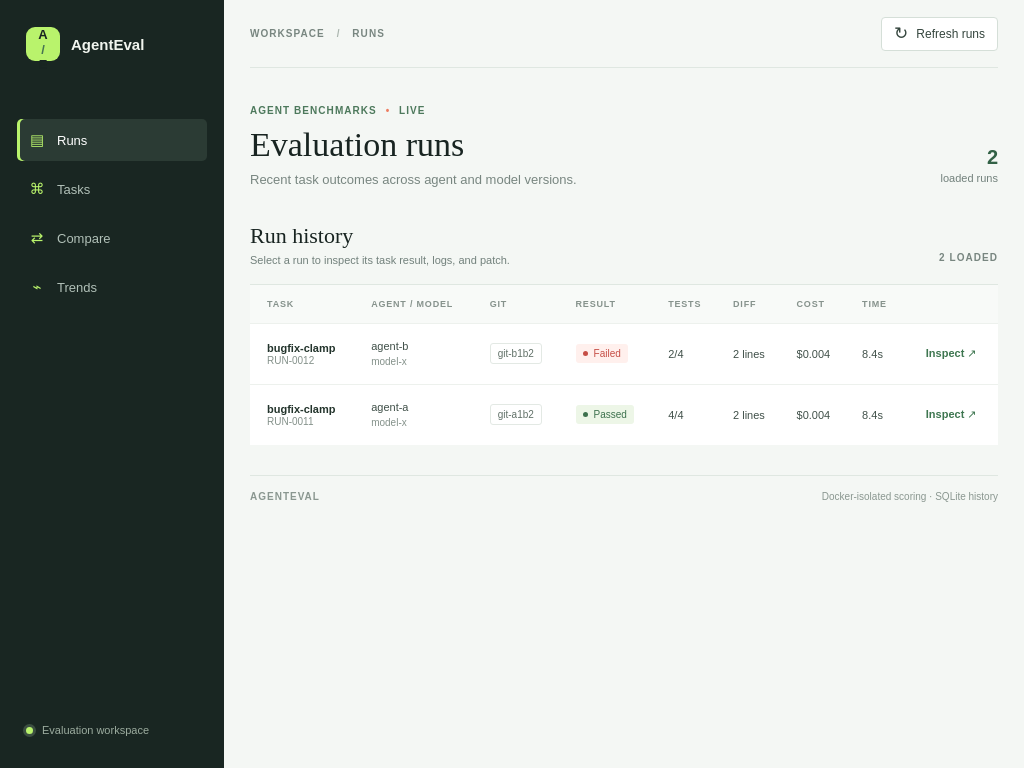
Test: AgentEval dashboard › loads per-run detail and displays its diff and logs
Click the button "Inspect ↗" in the row of "0011".
click(947, 415)  # box [918,401,977,428]
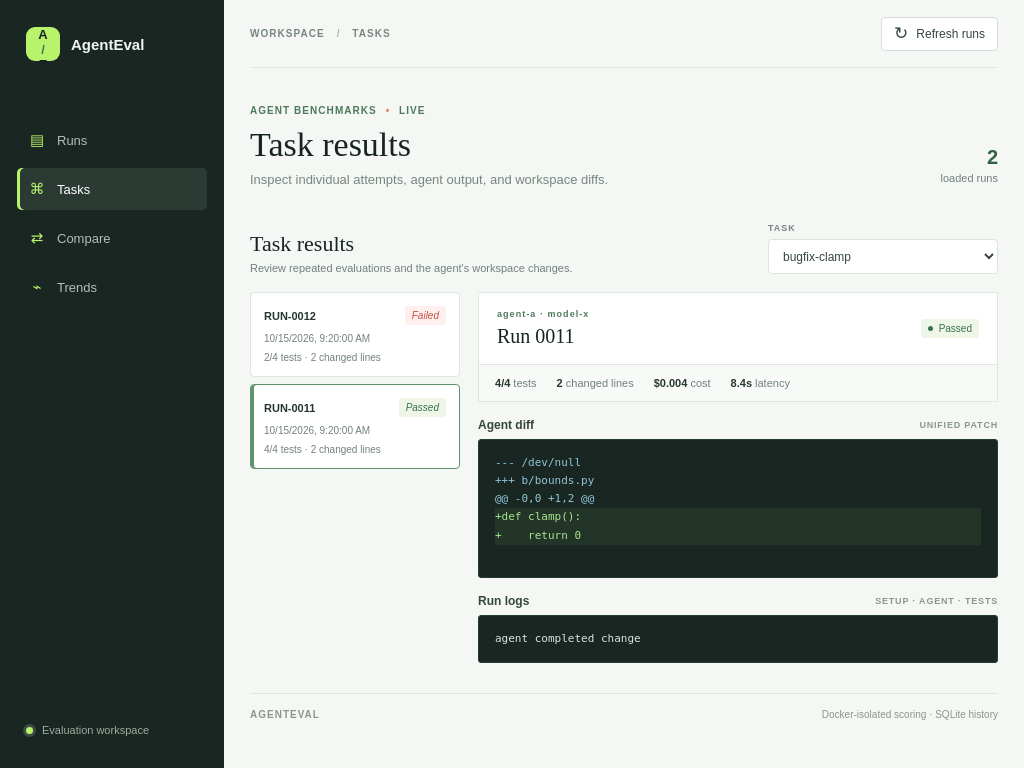
expect the heading "Run 0011" is shown: met, box [497,325,575,347]
expect the text "+def clamp():" is shown: met, box [495,508,981,526]
expect the text "agent completed change" is shown: met, box [478,615,998,663]
